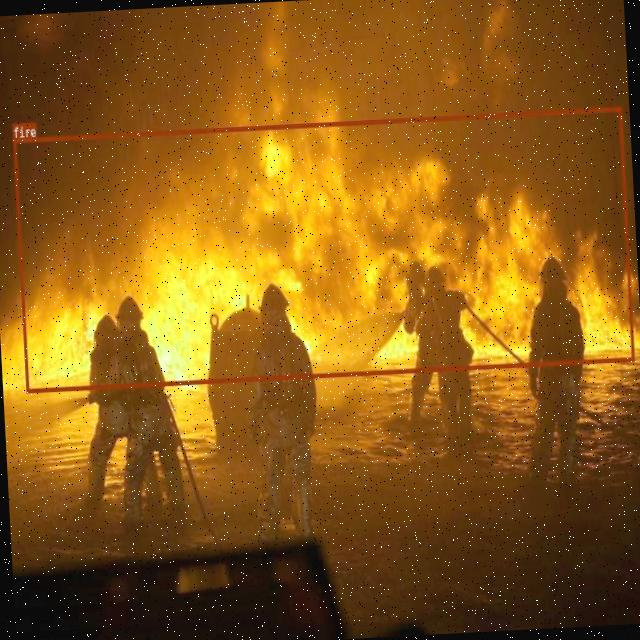fire: (12, 106, 634, 393)
